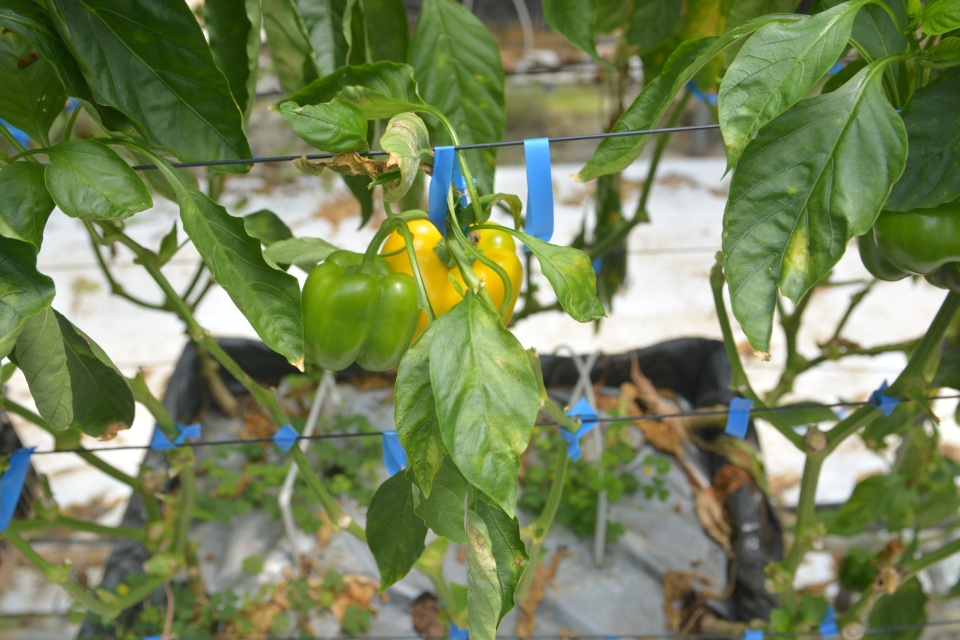fruit: (376, 215, 522, 355), (298, 249, 421, 374), (855, 198, 960, 282)
pedicle: (432, 235, 483, 269), (346, 263, 386, 279)
